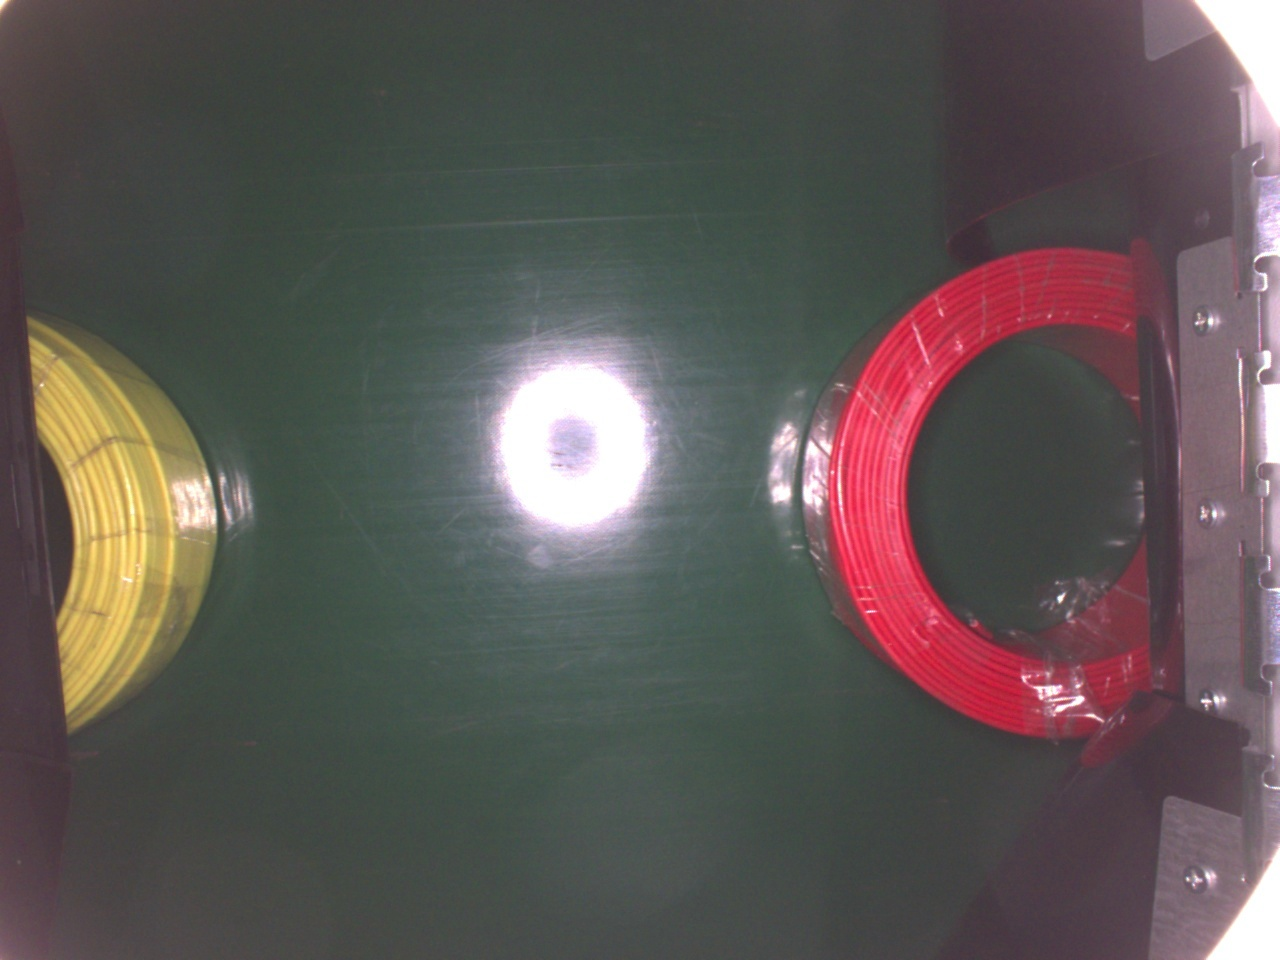red: (799, 243, 1161, 743)
yellow: (26, 318, 220, 740)
